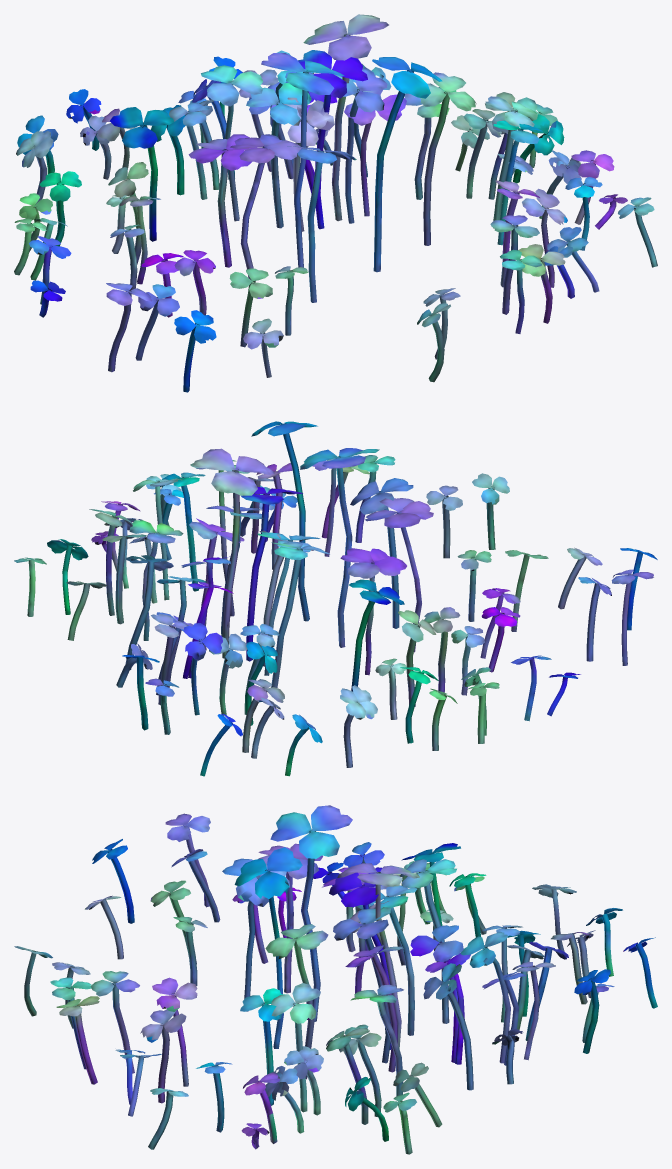
File: cloverpatch.fbx
3 renders of one model, top to bottom at view 1: azimuth 30°, elevation 25°; view 2: azimuth 150°, elevation 25°; view 3: azimuth 270°, elevation 25°, orthographic. The views are drawn at different scales.
Visible parts, largest first — view 1: clovers; view 2: clovers; view 3: clovers.
Boxes of the visible parts, x1=… form: clovers: x1=14, y1=14, x2=657, y2=392; clovers: x1=14, y1=421, x2=657, y2=776; clovers: x1=14, y1=805, x2=657, y2=1154.
Size of the model in its own units: 54.74 by 19.69 by 56.38.
Materials: 1 (1 with a texture image).
